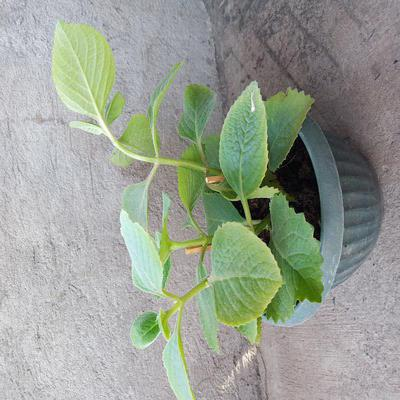Oregano: (33, 61, 325, 357)
